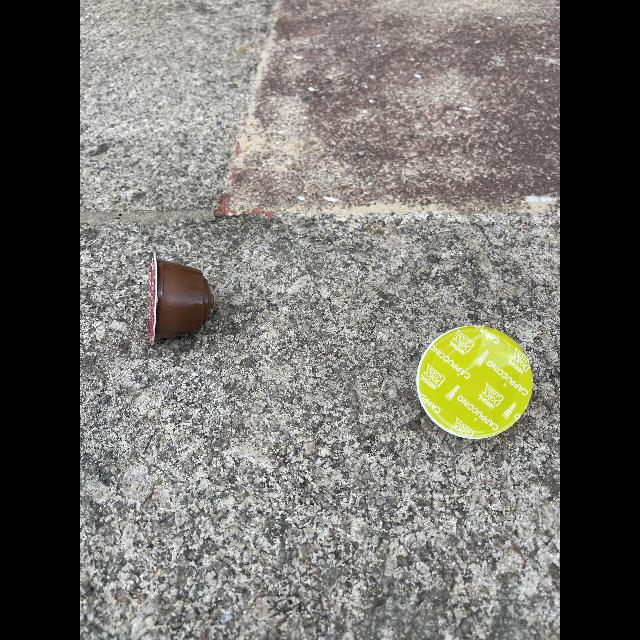intact_capsule: (409, 318, 539, 446), (136, 245, 224, 352)
